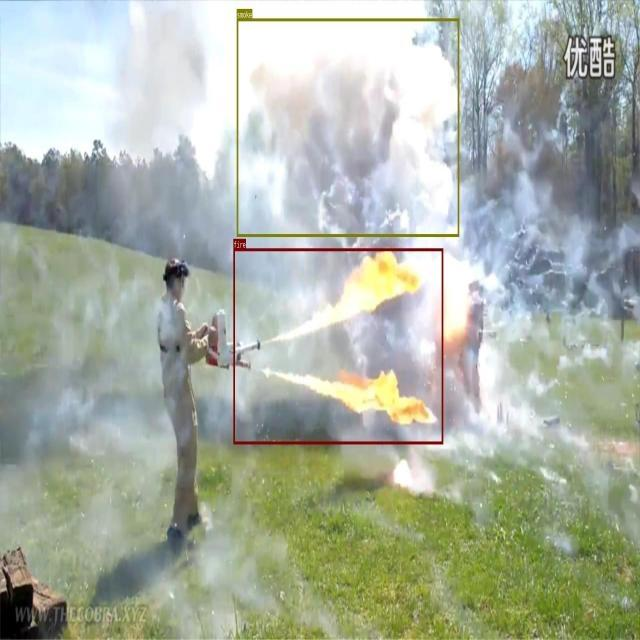fire: (233, 248, 443, 443)
smoke: (237, 18, 459, 236)
